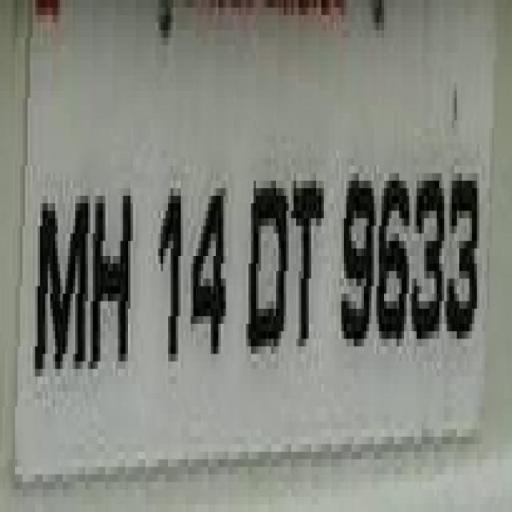number plate: (15, 30, 512, 460)
